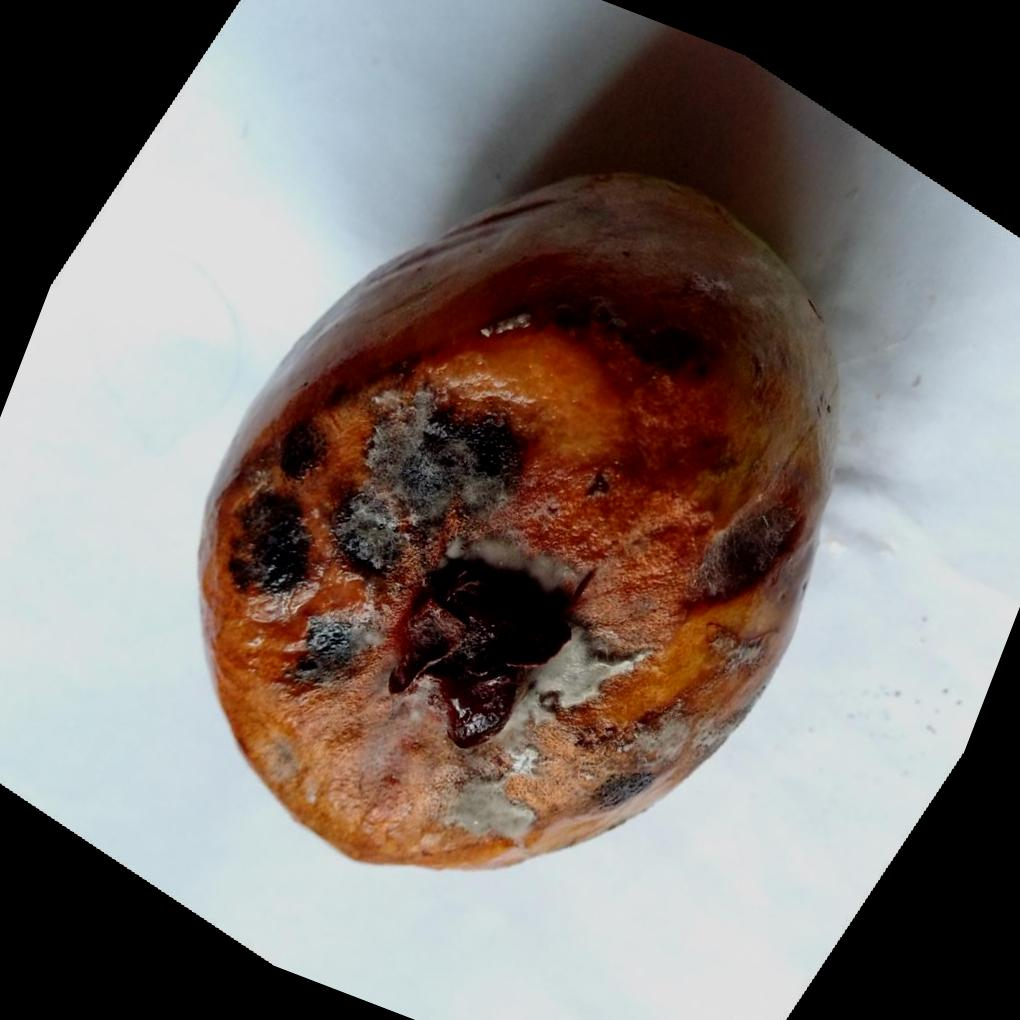FreshOrange: (198, 168, 844, 872)
